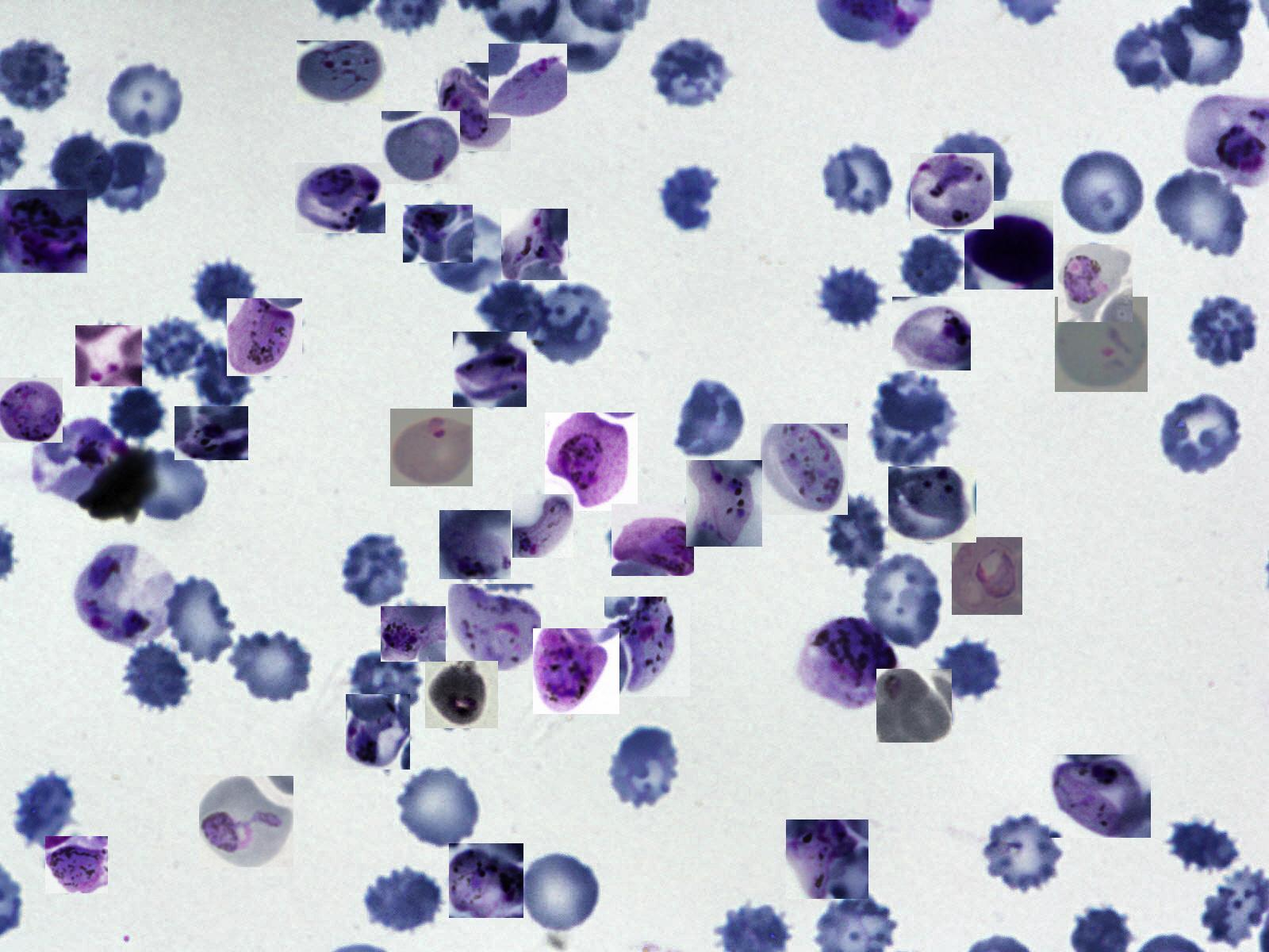Infected: (76, 540, 176, 646), (799, 613, 896, 707), (545, 413, 638, 511), (1055, 297, 1148, 392), (31, 416, 129, 505), (604, 597, 690, 697), (1049, 754, 1151, 838), (199, 776, 293, 867), (448, 584, 541, 671), (964, 201, 1053, 290), (761, 424, 848, 515), (533, 628, 619, 714), (0, 190, 87, 273), (888, 466, 976, 543), (686, 460, 762, 547), (438, 63, 511, 152), (786, 820, 868, 899), (390, 409, 473, 486), (911, 153, 994, 229), (295, 163, 385, 233), (611, 504, 694, 576), (227, 298, 302, 376), (1058, 244, 1133, 322), (489, 44, 567, 118), (381, 111, 460, 184), (892, 297, 971, 370), (876, 669, 952, 743), (453, 332, 527, 407), (449, 843, 523, 918), (297, 40, 384, 103), (952, 537, 1022, 615), (439, 510, 511, 579), (425, 661, 498, 728), (347, 694, 410, 770), (501, 209, 568, 280), (0, 378, 63, 443), (75, 325, 142, 386), (403, 205, 473, 263), (174, 406, 248, 460), (512, 494, 573, 558), (381, 606, 446, 662), (45, 836, 108, 893)
Uninfected: (858, 550, 948, 654), (1153, 166, 1252, 258), (1058, 146, 1149, 236), (393, 762, 485, 850), (922, 130, 1010, 221), (865, 382, 957, 468), (422, 209, 514, 294), (1156, 391, 1247, 474), (519, 847, 604, 935), (606, 724, 686, 812), (527, 281, 611, 364), (101, 60, 188, 140), (646, 32, 735, 109), (221, 626, 315, 698), (1161, 6, 1244, 85), (88, 136, 169, 214), (163, 575, 234, 663), (677, 377, 748, 463), (983, 815, 1062, 892), (120, 639, 197, 717), (332, 532, 408, 608), (819, 490, 888, 573), (1116, 22, 1199, 90), (363, 864, 443, 932), (818, 144, 893, 216), (812, 263, 888, 332), (48, 125, 111, 208), (186, 257, 259, 328), (1183, 295, 1258, 364), (139, 450, 208, 524), (349, 649, 423, 712), (14, 771, 74, 848), (895, 236, 964, 299), (481, 275, 545, 342), (658, 162, 719, 232), (194, 340, 251, 413), (140, 317, 205, 378), (1168, 820, 1242, 872), (942, 635, 1002, 697), (106, 386, 169, 443)
